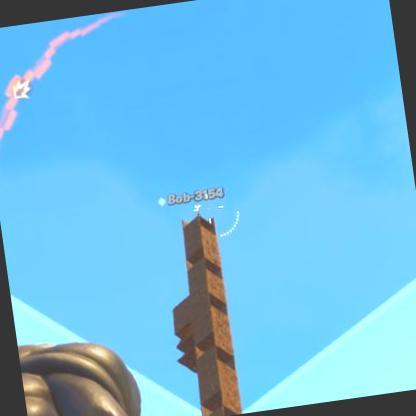person: (193, 209, 202, 218)
